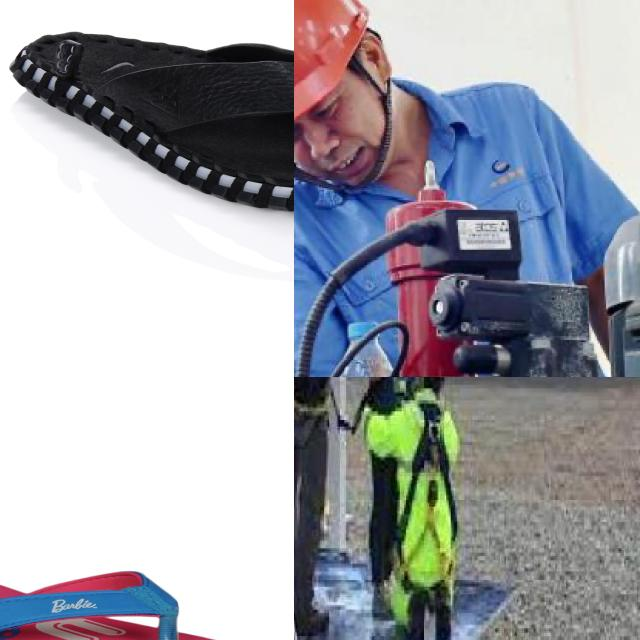Harness: (390, 393, 458, 632)
No_Ear-Protection: (359, 29, 395, 87)
No_Glasses: (294, 86, 355, 142)
Sandals: (8, 29, 294, 217), (0, 568, 271, 640)
face_nomask: (294, 87, 385, 190)
head_helmet: (294, 0, 368, 118)
